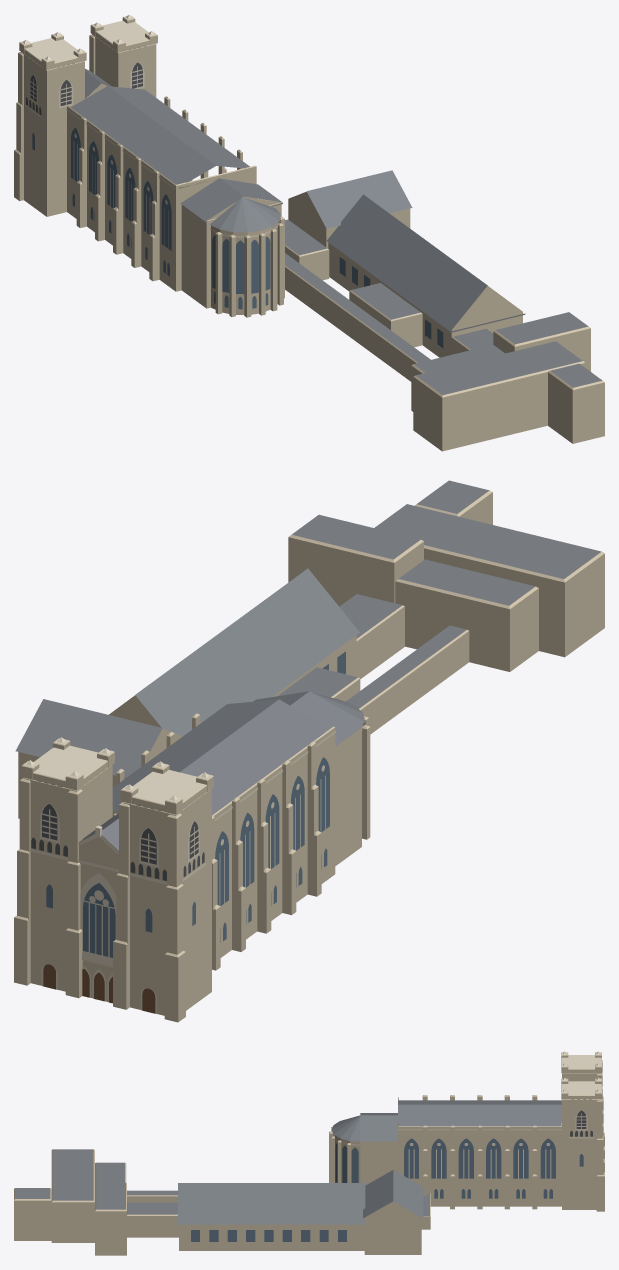
The model's file is den-st-johns-cathedral.glb.
3 renders of one model, top to bottom at view 1: azimuth 30°, elevation 25°; view 2: azimuth 150°, elevation 25°; view 3: azimuth 270°, elevation 25°, orthographic. The views are drawn at different scales.
Parts seen in each view (by area): view 1: St. John's Cathedral; view 2: St. John's Cathedral; view 3: St. John's Cathedral.
Boxes of the visible parts, left/top/right/bottom form: St. John's Cathedral: left=14, top=15, right=604, bottom=451; St. John's Cathedral: left=14, top=480, right=604, bottom=1022; St. John's Cathedral: left=14, top=1051, right=604, bottom=1255.
Size of the model in its own units: 49.6 by 31.6 by 142.
